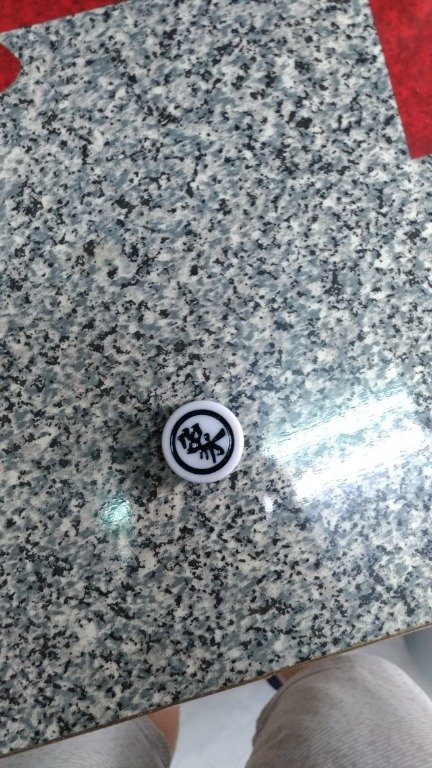b-elephant: (148, 387, 265, 500)
